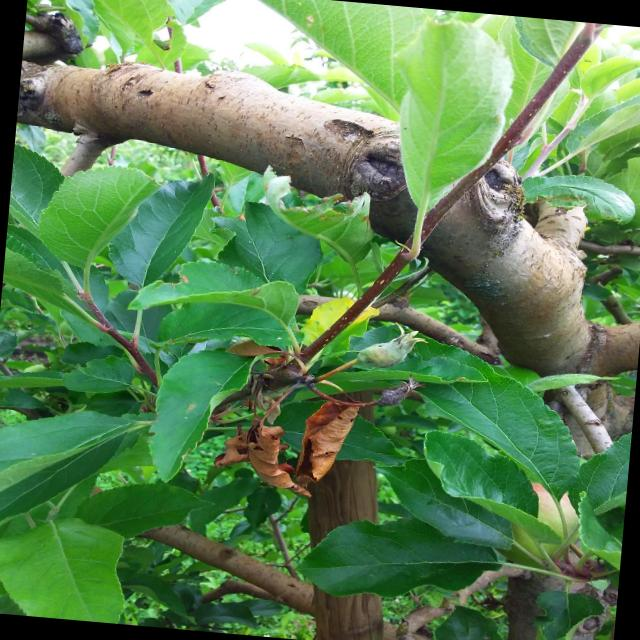-FireBlight-: (200, 334, 420, 503)
